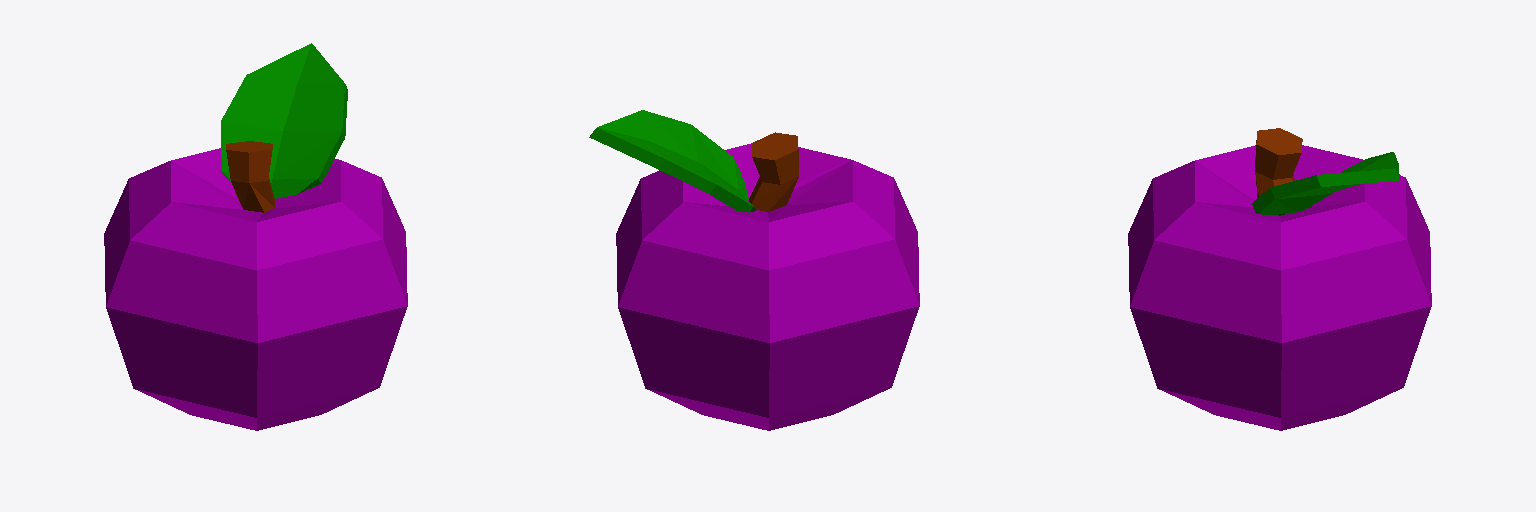
File: Berry.obj
3 views of the same model, side by side, from view 1: azimuth 30°, elevation 25°; view 2: azimuth 150°, elevation 25°; view 3: azimuth 270°, elevation 25° (orthographic).
Parts seen in each view (by area): view 1: Plane.001; view 2: Plane.001; view 3: Plane.001.
Boxes of the visible parts, x1,y1,x2,y2 form: Plane.001: [104, 43, 407, 430]; Plane.001: [589, 110, 919, 430]; Plane.001: [1128, 128, 1431, 430].
Bounding box in the file's own units: 0.6586 × 0.5963 × 0.5734.